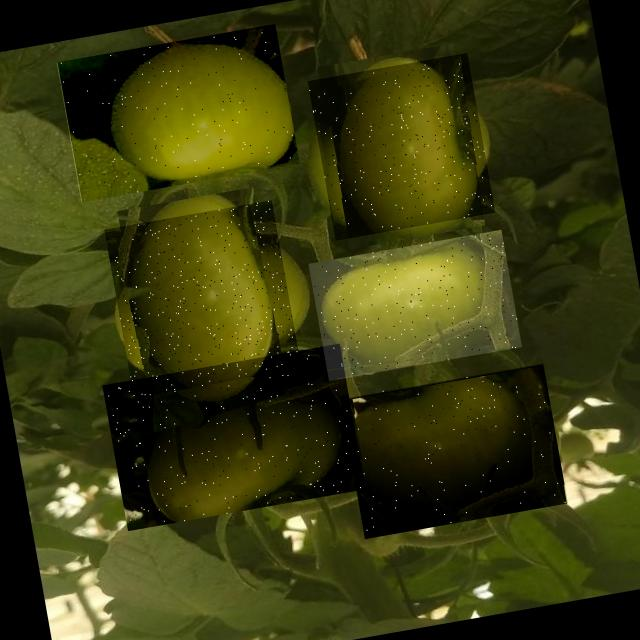Unripe Tomato: (102, 343, 365, 531), (54, 24, 299, 202), (340, 361, 568, 538), (104, 200, 301, 398), (307, 52, 495, 240), (308, 230, 522, 380)
